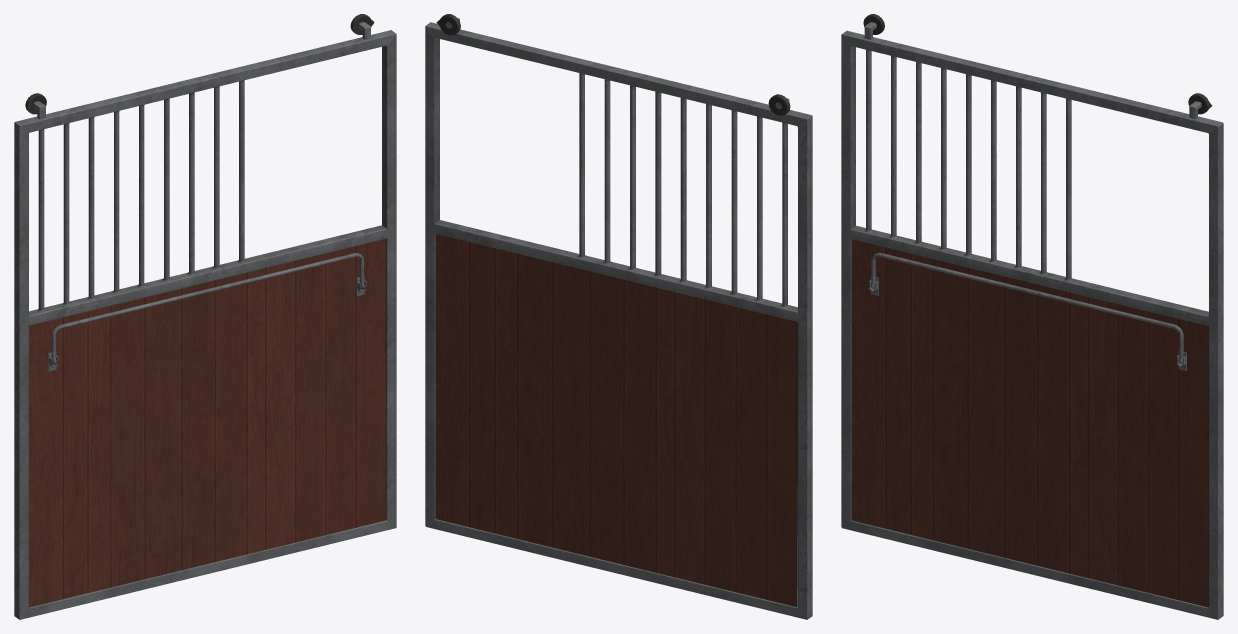
The model's file is Pen_01_Straight_Door_Hole.fbx.
The picture shows the model from 3 angles, left to right: view 1: azimuth 30°, elevation 25°; view 2: azimuth 150°, elevation 25°; view 3: azimuth 330°, elevation 25°; orthographic projection.
Parts seen in each view (by area): view 1: Pen_01_Straight_Door_Hole; view 2: Pen_01_Straight_Door_Hole; view 3: Pen_01_Straight_Door_Hole.
Part boxes in pixels (x1,y1,x2,y2): Pen_01_Straight_Door_Hole: (14, 14, 396, 619); Pen_01_Straight_Door_Hole: (425, 14, 812, 619); Pen_01_Straight_Door_Hole: (841, 14, 1223, 619).
Bounding box in the file's own units: 200 × 260 × 10.96.
